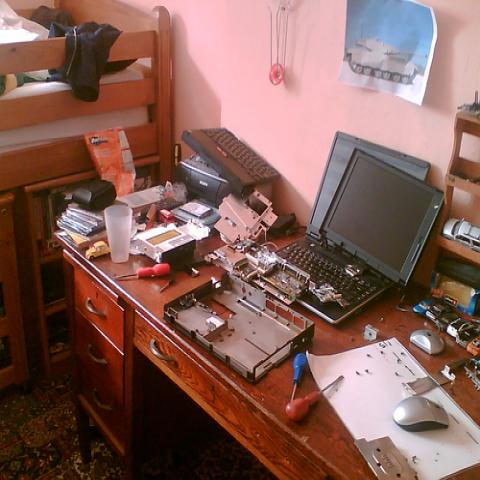car: (442, 218, 480, 252)
